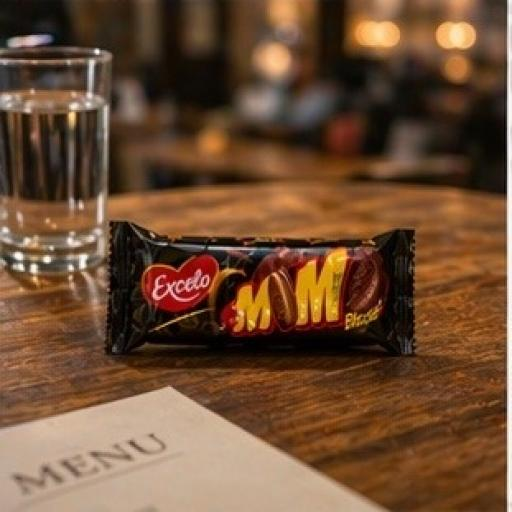MOMO: (104, 217, 457, 372)
